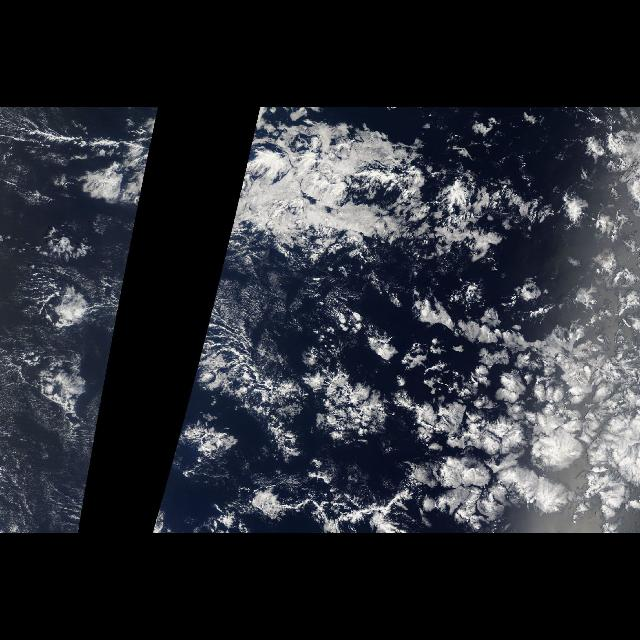Flower: (343, 211, 639, 531)
